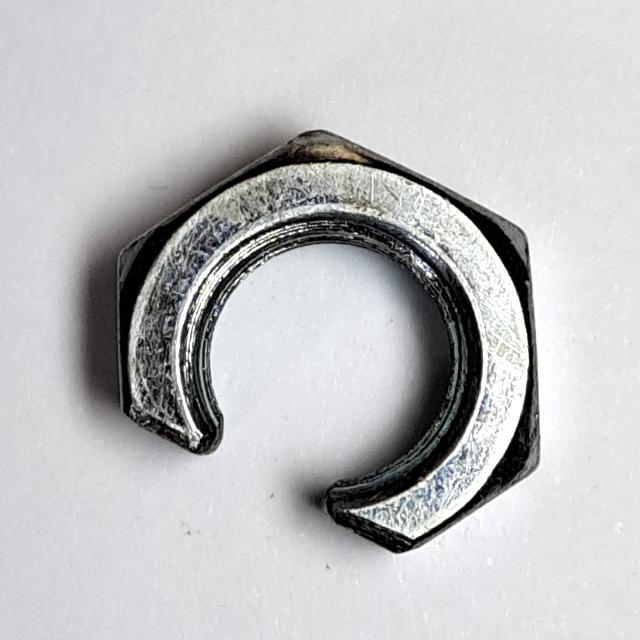Fracture: (96, 100, 558, 568)
